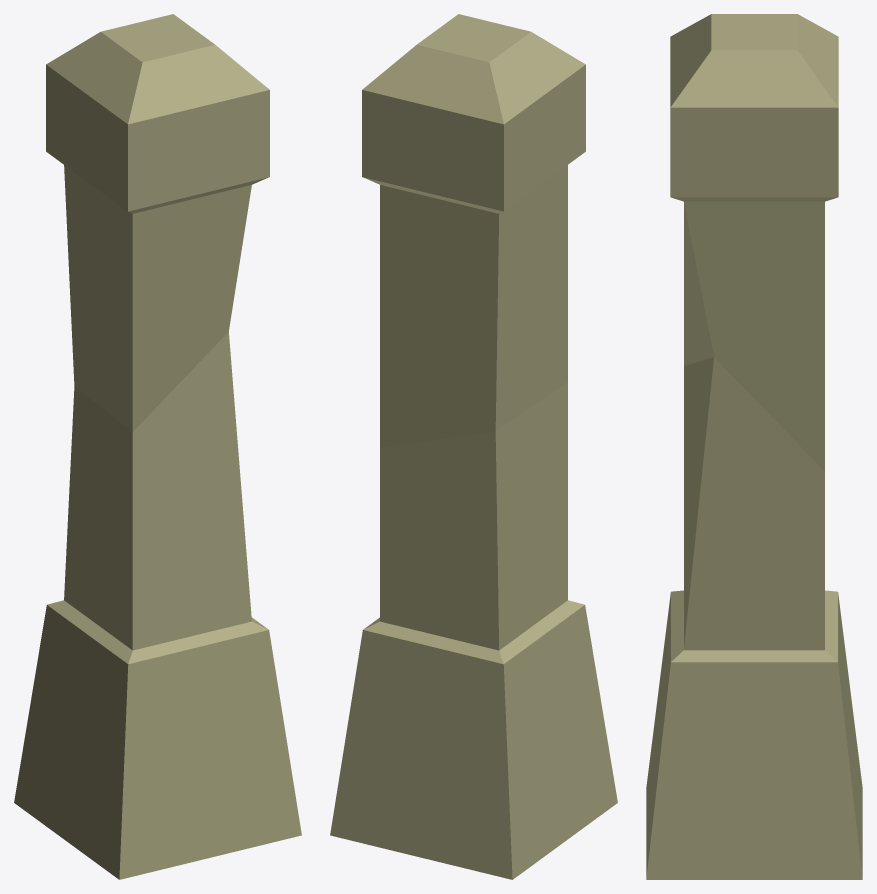
The model's file is fence_column_small_mat.fbx.
3 renders of one model, left to right at view 1: azimuth 30°, elevation 25°; view 2: azimuth 150°, elevation 25°; view 3: azimuth 270°, elevation 25°, orthographic. The views are drawn at different scales.
Parts seen in each view (by area): view 1: fence_column_small_mat; view 2: fence_column_small_mat; view 3: fence_column_small_mat.
Part boxes in pixels (x1=…): fence_column_small_mat: x1=14, y1=14, x2=301, y2=879; fence_column_small_mat: x1=330, y1=14, x2=617, y2=879; fence_column_small_mat: x1=646, y1=14, x2=862, y2=879.
Size of the model in its own units: 182 by 746 by 182.
